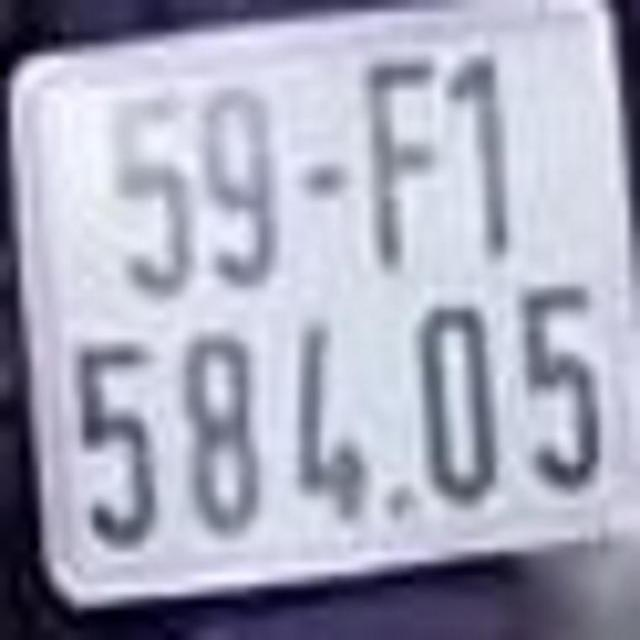0: (414, 302, 502, 508)
1: (446, 45, 525, 258)
4: (284, 319, 374, 528)
5: (106, 96, 200, 294), (520, 276, 602, 498), (80, 334, 163, 546)
8: (178, 327, 264, 540)
9: (198, 84, 282, 287)
F: (364, 61, 444, 270)
